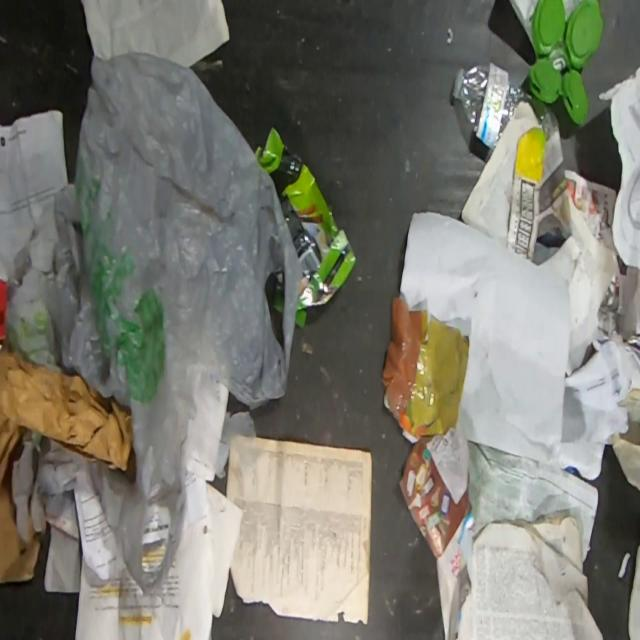cardboard: (0, 343, 134, 590), (257, 126, 356, 329), (0, 278, 10, 349)
rigid_plastic: (452, 61, 559, 148), (529, 0, 604, 123)
soft_plastic: (6, 49, 302, 593)
